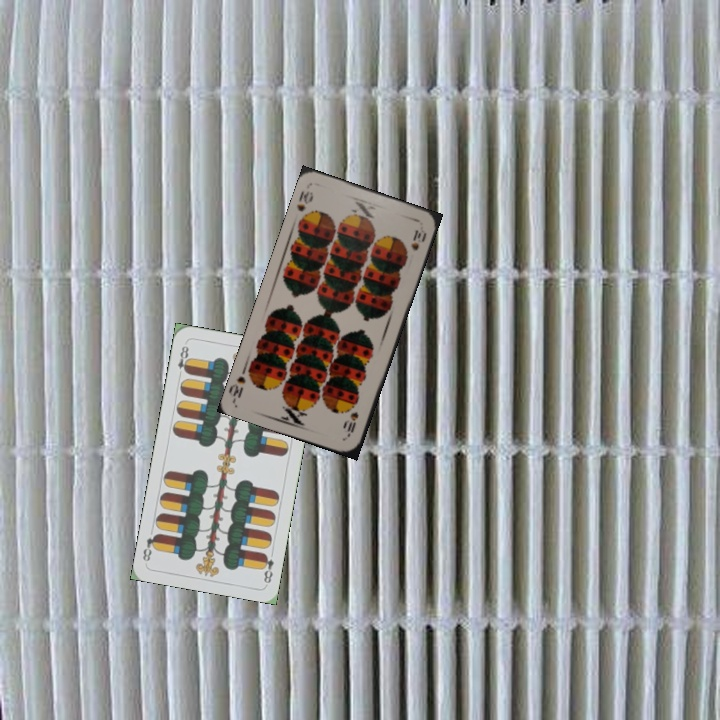E8: (174, 341, 192, 380), (258, 550, 276, 586)
S10: (293, 187, 316, 214), (343, 408, 361, 440)
